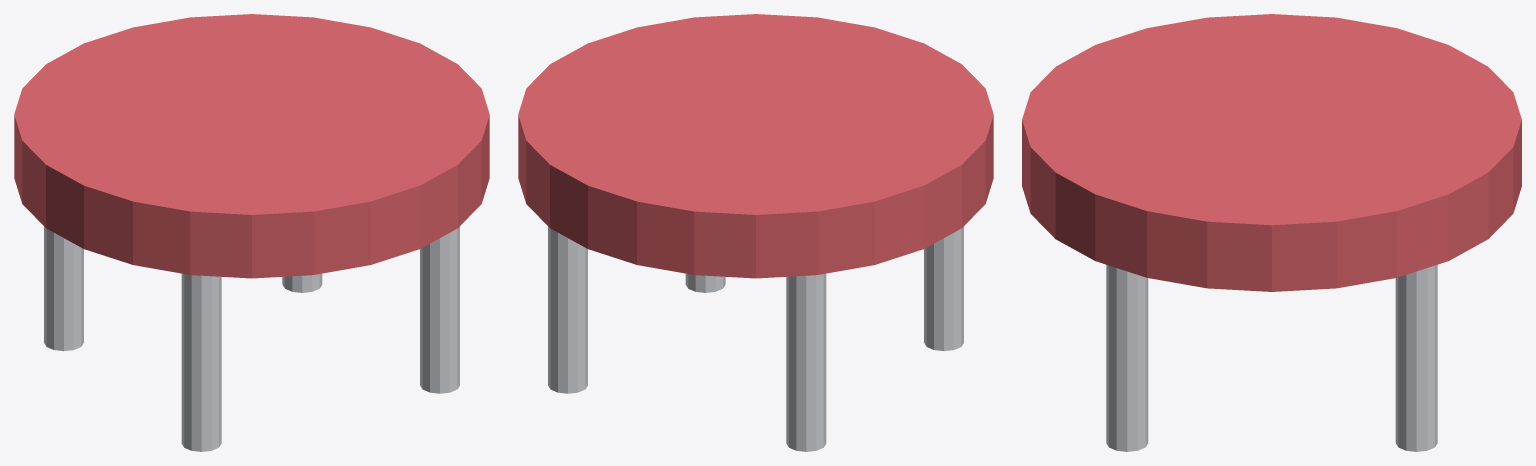
Rendered from kitchen_stool.glb.
3 renders of one model, left to right at view 1: azimuth 30°, elevation 25°; view 2: azimuth 150°, elevation 25°; view 3: azimuth 270°, elevation 25°, orthographic. The views are drawn at different scales.
Parts seen in each view (by area): view 1: Cylinder, Cylinder.001, Cylinder.003, Cylinder.002, Cylinder.004; view 2: Cylinder, Cylinder.002, Cylinder.004, Cylinder.001, Cylinder.003; view 3: Cylinder, Cylinder.003, Cylinder.004.
Part boxes in pixels (x1,y1,x2,y2): Cylinder: [14, 14, 489, 278]; Cylinder.001: [181, 273, 221, 451]; Cylinder.003: [420, 226, 459, 393]; Cylinder.002: [44, 226, 83, 351]; Cylinder.004: [282, 273, 322, 292]; Cylinder: [518, 14, 993, 278]; Cylinder.002: [786, 273, 826, 451]; Cylinder.004: [548, 226, 587, 393]; Cylinder.001: [924, 226, 963, 351]; Cylinder.003: [685, 273, 725, 292]; Cylinder: [1022, 14, 1521, 291]; Cylinder.003: [1106, 265, 1148, 451]; Cylinder.004: [1395, 265, 1437, 451].
Size of the model in its own units: 1.9 by 1.1 by 1.9.
